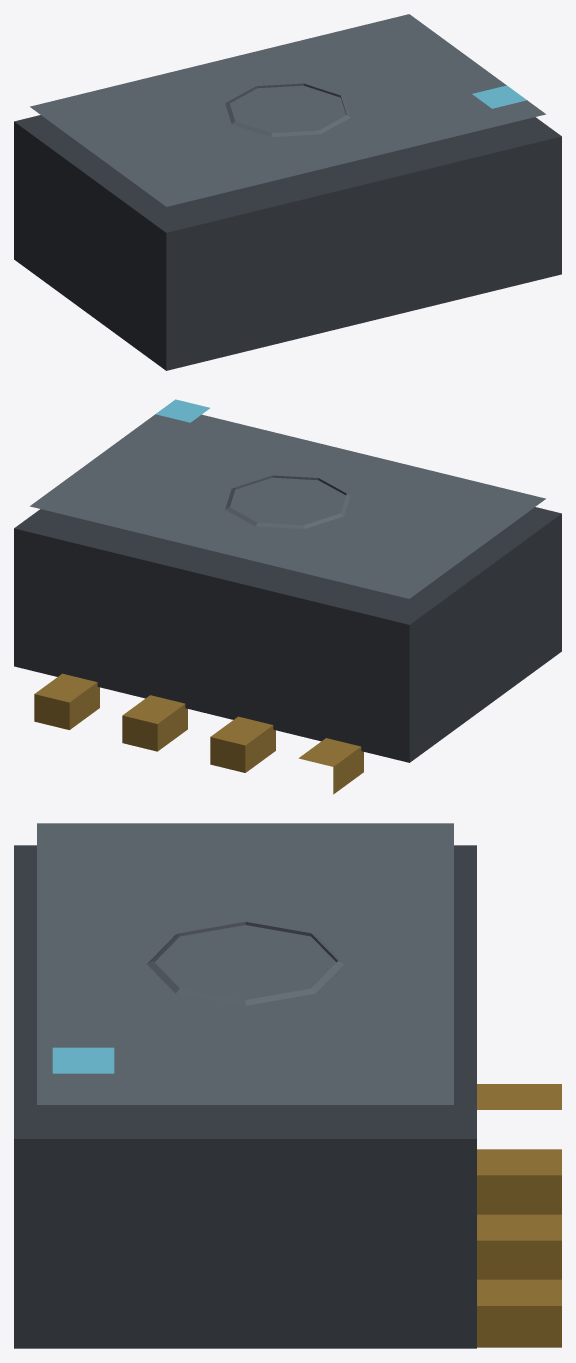
The model's file is droid-manipulator-upgrade.lod.glb.
The picture shows the model from 3 angles, top to bottom: view 1: azimuth 30°, elevation 25°; view 2: azimuth 150°, elevation 25°; view 3: azimuth 270°, elevation 25°; orthographic projection. The views are drawn at different scales.
Visible parts, largest first — view 1: m; view 2: m; view 3: m.
Part boxes in pixels (x1,y1,x2,y2): m: [14, 14, 561, 370]; m: [14, 399, 561, 794]; m: [14, 823, 561, 1348].
Size of the model in its own units: 0.1 by 0.0467 by 0.0789.
